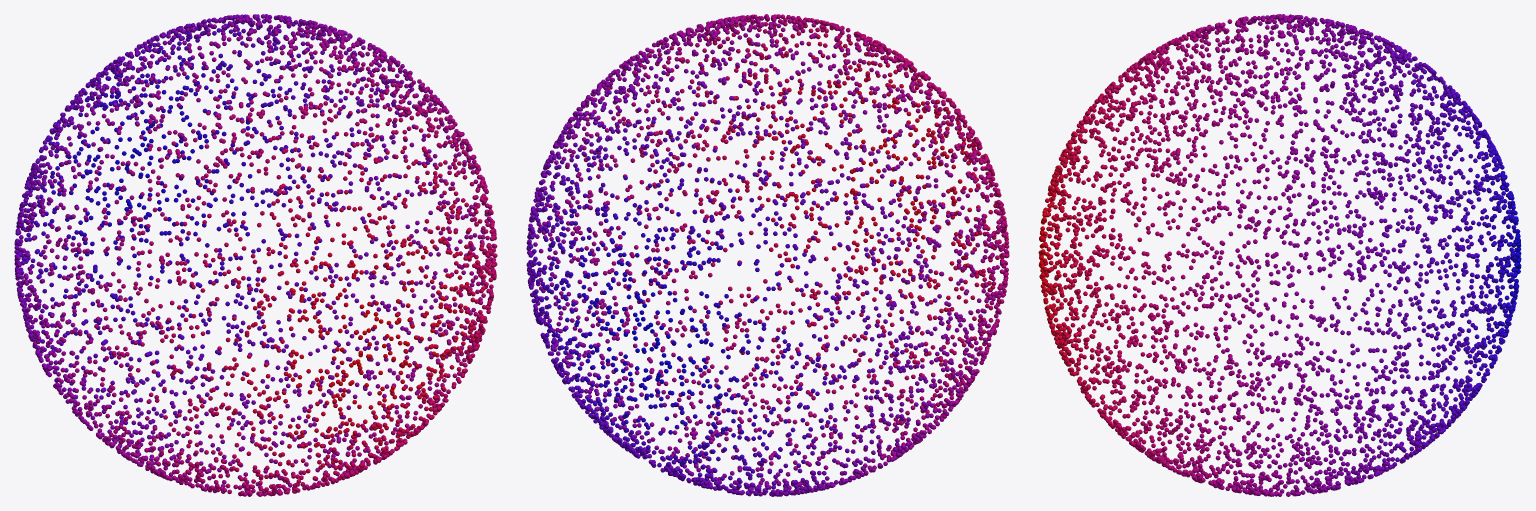
Rendered from fsaverage_lh_spherical.glb.
3 renders of one model, left to right at view 1: azimuth 30°, elevation 25°; view 2: azimuth 150°, elevation 25°; view 3: azimuth 270°, elevation 25°, orthographic.
Parts seen in each view (by area): view 1: world; view 2: world; view 3: world.
Boxes of the visible parts, x1,y1,x2,y2 form: world: (14,14,497,496); world: (526,14,1009,496); world: (1038,14,1521,496).
Bounding box in the file's own units: 202 × 202 × 202.
